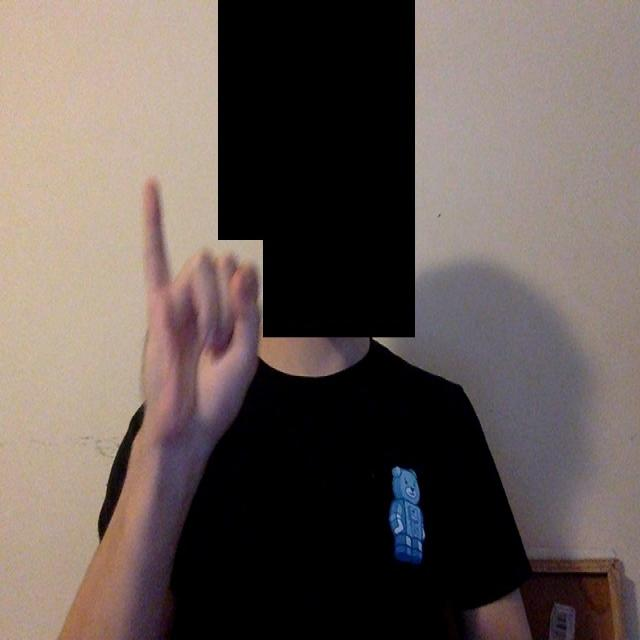I: (101, 172, 293, 468)
